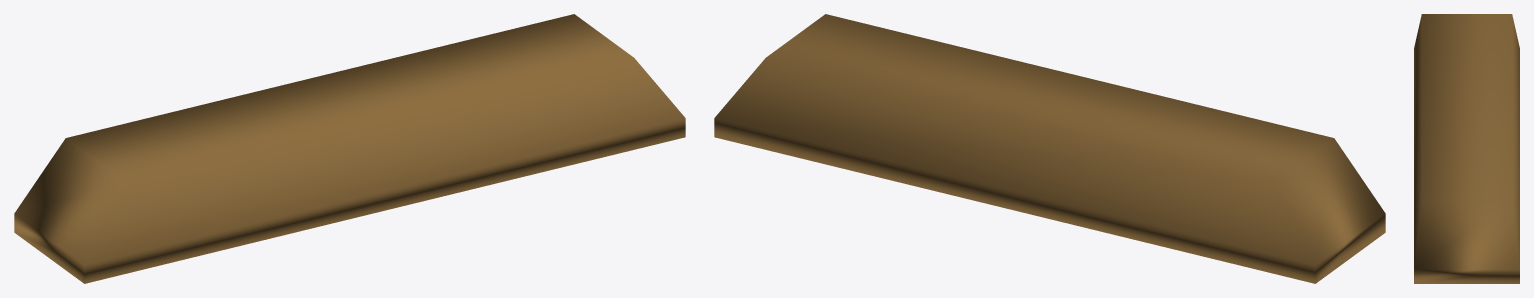
The model's file is Mesh_Lingote.fbx.
3 views of the same model, side by side, from view 1: azimuth 30°, elevation 25°; view 2: azimuth 150°, elevation 25°; view 3: azimuth 270°, elevation 25° (orthographic). The views are drawn at different scales.
Parts seen in each view (by area): view 1: pCube1; view 2: pCube1; view 3: pCube1.
Boxes of the visible parts, x1,y1,x2,y2 form: pCube1: [14, 14, 685, 283]; pCube1: [714, 14, 1385, 283]; pCube1: [1414, 14, 1519, 283].
Size of the model in its own units: 17.35 by 2.4 by 3.51.
